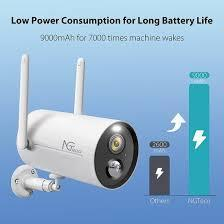tutu: (8, 98, 145, 198)
